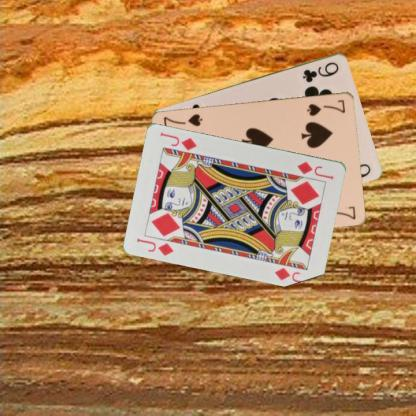7s: (304, 96, 347, 116)
9c: (300, 59, 341, 84)
Jd: (295, 158, 335, 181), (135, 235, 175, 257)
